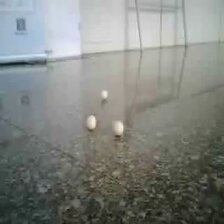tennis: (104, 102, 125, 131), (20, 79, 36, 102), (31, 57, 44, 73)
